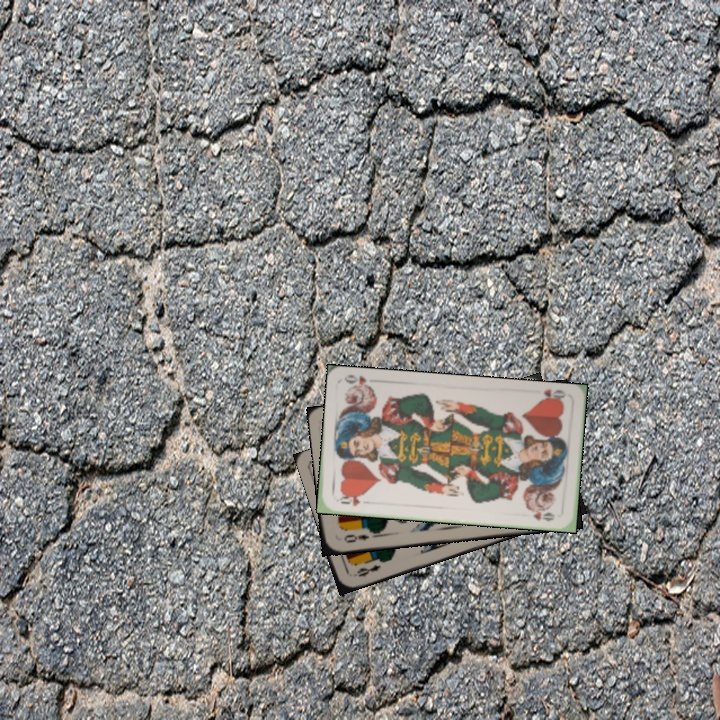EO: (349, 560, 383, 579), (340, 530, 372, 545)
HO: (535, 385, 569, 406), (335, 490, 363, 509)
